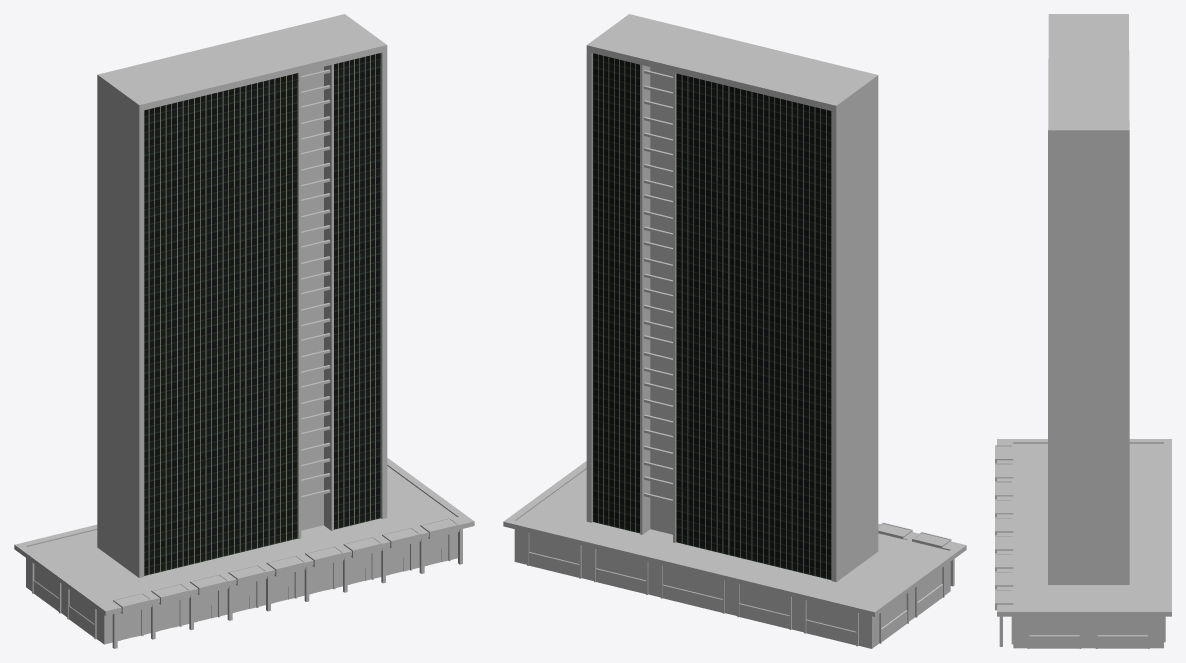
The picture shows the model from 3 angles, left to right: view 1: azimuth 30°, elevation 25°; view 2: azimuth 150°, elevation 25°; view 3: azimuth 270°, elevation 25°; orthographic projection. The views are drawn at different scales.
Parts seen in each view (by area): view 1: BC-P09; view 2: BC-P09; view 3: BC-P09.
Part boxes in pixels (x1,y1,x2,y2): BC-P09: [14, 14, 474, 648]; BC-P09: [503, 14, 966, 648]; BC-P09: [995, 14, 1171, 648].
Size of what is drawn, in the model's own units: 74.48 by 98.93 by 32.18.
